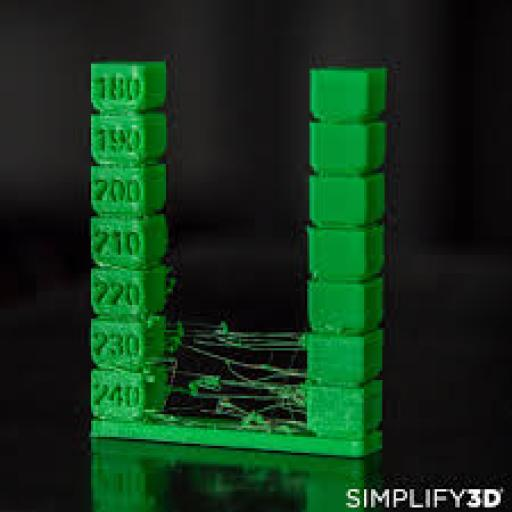stringing: (149, 314, 311, 435)
